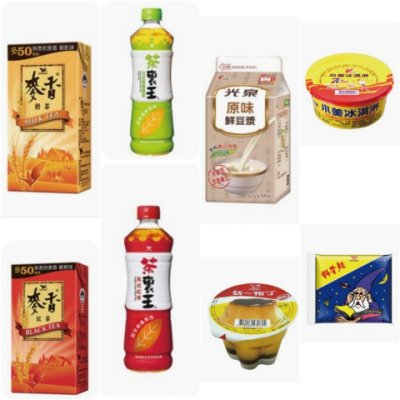milk tea: (8, 41, 92, 196)
